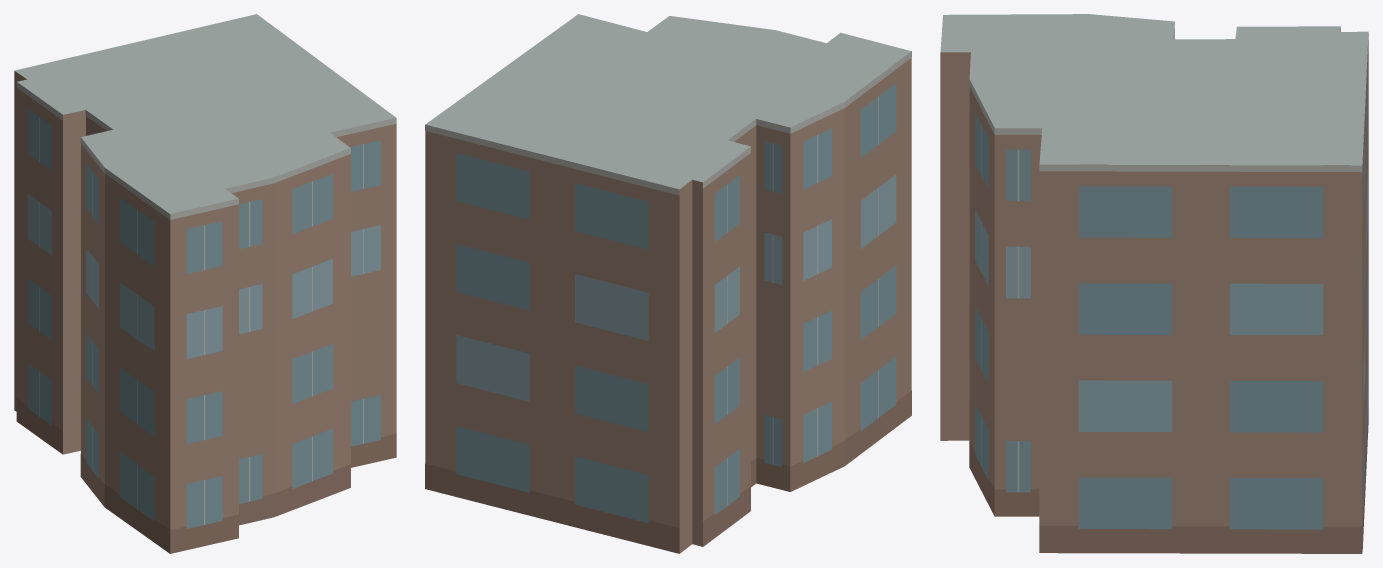
The model's file is survey-upis-32921298.glb.
3 views of the same model, side by side, from view 1: azimuth 30°, elevation 25°; view 2: azimuth 150°, elevation 25°; view 3: azimuth 270°, elevation 25° (orthographic). The views are drawn at different scales.
Parts seen in each view (by area): view 1: survey-upis-32921298.tmp; view 2: survey-upis-32921298.tmp; view 3: survey-upis-32921298.tmp.
Part boxes in pixels (<box>): survey-upis-32921298.tmp: <box>14,14,396,553</box>; survey-upis-32921298.tmp: <box>425,14,911,553</box>; survey-upis-32921298.tmp: <box>940,14,1368,553</box>.
Bounding box in the file's own units: 11.89 × 14.2 × 14.2.
